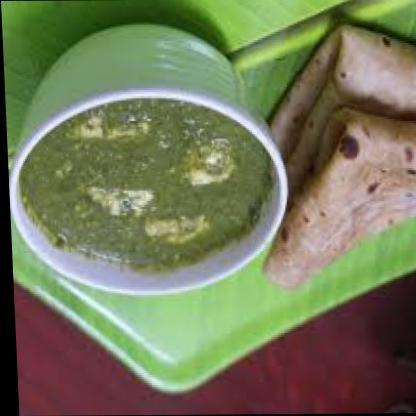palak_paneer: (14, 96, 272, 270)
